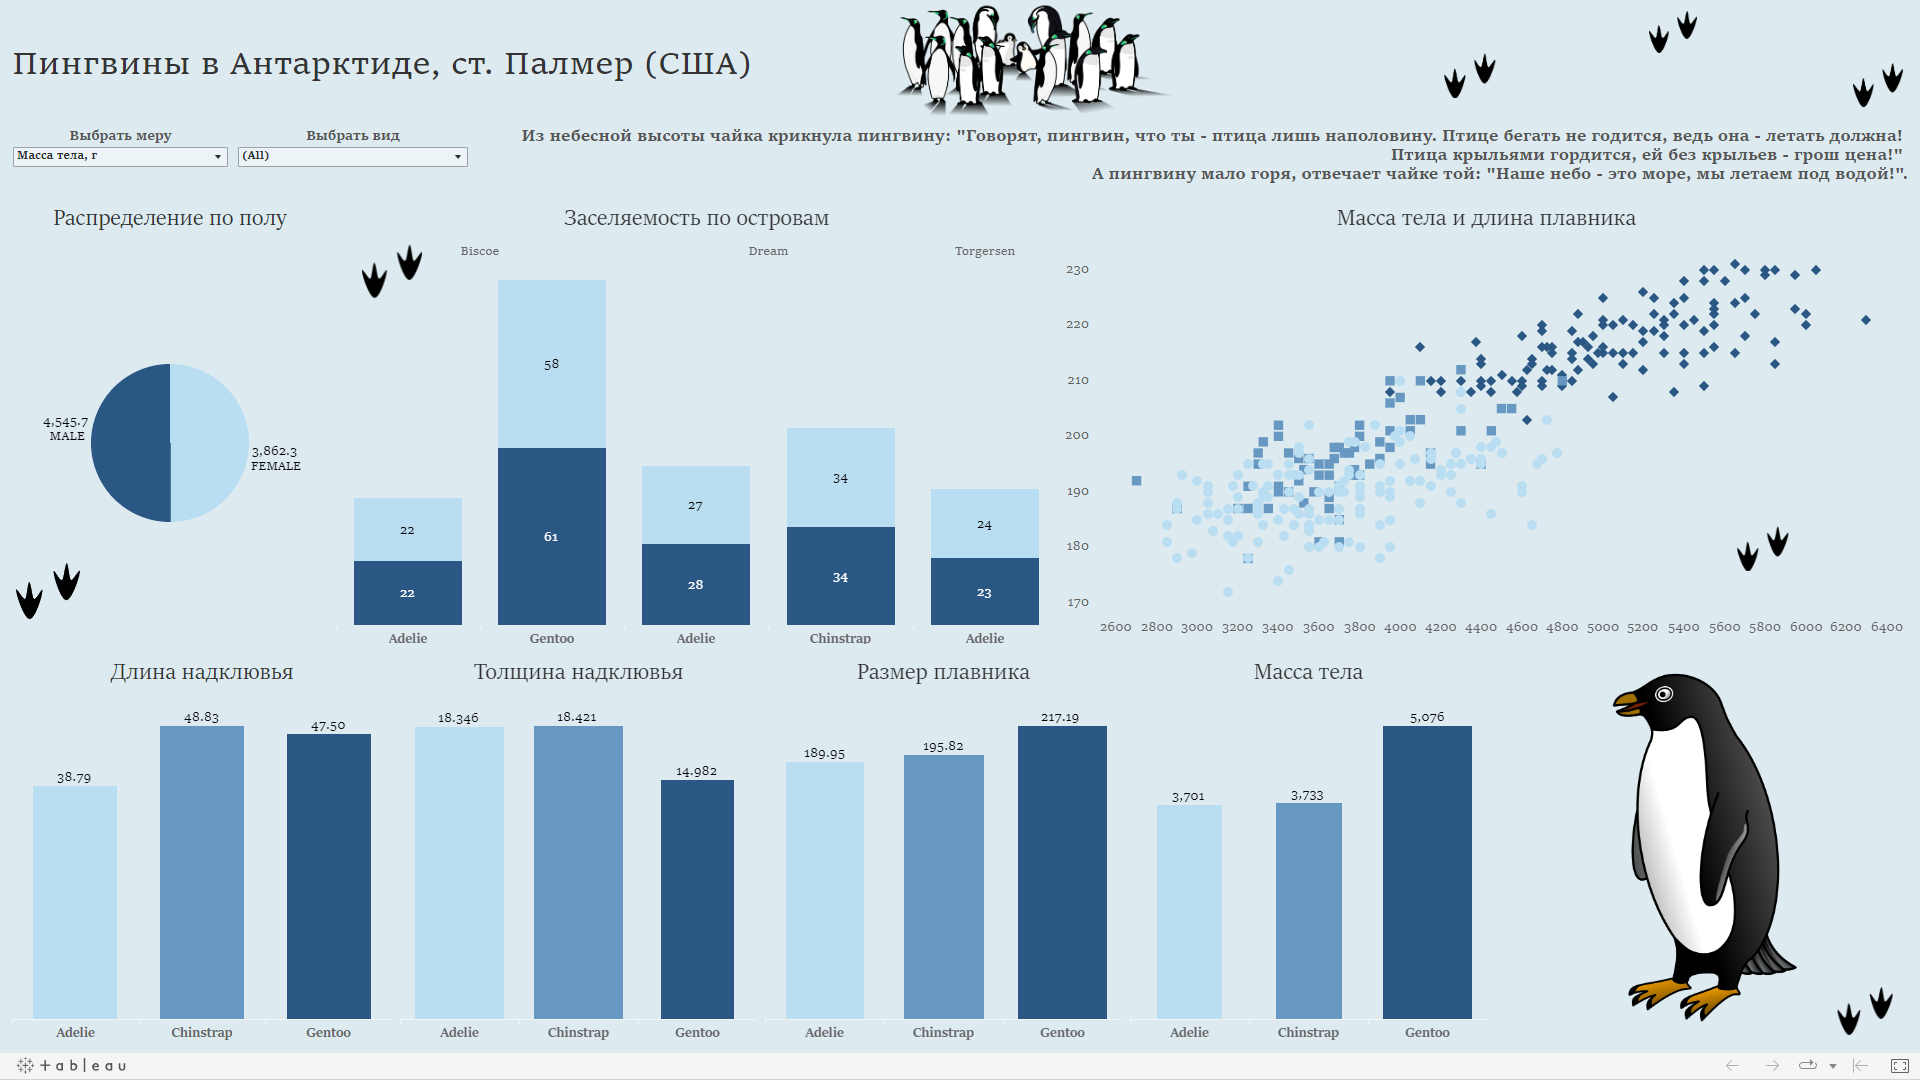

The page's visual inventory and layout, read from the dashboard file:
{"tool":"tableau","page":{"name":"Пингвины в Антарктиде, ст. Палмер (США)","canvas":[1000,1000],"units":"permille","ordinal":0},"visuals":[{"type":"image","param":"Image/penuins.78951534.png","box":[471.2,6.6,180.3,110.6]},{"type":"title","box":[4.6,8.8,990.8,105.1]},{"type":"parameter","param":"[Parameters].[Parameter 1]","box":[4.6,113.9,129.6,70.8]},{"type":"filter","title":"Масса тела и длина плавника","param":"[federated.04w89990advv0e1a4gnk00toqi7x].[none:species:nk]","box":[134.2,113.9,138.2,70.8]},{"type":"text","box":[272.5,113.9,722.9,70.8]},{"type":"worksheet","title":"Распределение по полу","mark":"Pie","box":[4.6,191.4,186.6,389.4]},{"type":"worksheet","title":"Заселяемость по островам","mark":"Automatic","rows":["penguins_size.csv_A3616FDE05CB42C1A4F4DE3EAD8472D6"],"cols":["island","species"],"box":[191.2,191.4,419.9,389.4]},{"type":"worksheet","title":"Масса тела и длина плавника","mark":"Shape","rows":["flipper_length_mm"],"cols":["body_mass_g"],"box":[611.2,191.4,384.2,389.4]},{"type":"worksheet","title":"Длина надклювья","mark":"Bar","rows":["culmen_length_mm"],"cols":["species"],"box":[4.6,580.8,201.9,401.6]},{"type":"worksheet","title":"Толщина надклювья","mark":"Automatic","rows":["culmen_depth_mm"],"cols":["species"],"box":[206.5,580.8,210.3,401.6]},{"type":"worksheet","title":"Размер плавника","mark":"Automatic","rows":["flipper_length_mm"],"cols":["species"],"box":[416.8,580.8,210.3,401.6]},{"type":"worksheet","title":"Масса тела","mark":"Automatic","rows":["body_mass_g"],"cols":["species"],"box":[627.1,580.8,210.3,401.6]},{"type":"image","param":"Image/pinguin_PNG8.png","box":[837.3,580.8,158.1,401.6]}]}

Visuals, with their boxes on the dashboard's canvas, which has no fixed pixel size, in thousandths of its width and height (x1, y1, x2, y2). These are canvas units, not pixel positions in the 1920x1080 screenshot, which may show the page scaled, cropped or inside an application window:
image: 471,7,652,117
title: 5,9,995,114
parameter: 5,114,134,185
"Масса тела и длина плавника" filter: 134,114,272,185
text: 272,114,995,185
"Распределение по полу" worksheet (Pie marks): 5,191,191,581
"Заселяемость по островам" worksheet: 191,191,611,581
"Масса тела и длина плавника" worksheet (Shape marks): 611,191,995,581
"Длина надклювья" worksheet (Bar marks): 5,581,206,982
"Толщина надклювья" worksheet: 206,581,417,982
"Размер плавника" worksheet: 417,581,627,982
"Масса тела" worksheet: 627,581,837,982
image: 837,581,995,982
